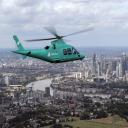helicopter: (12, 24, 96, 66)
